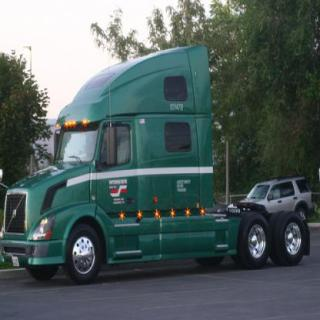Normal_vehicle: (4, 32, 312, 283)
